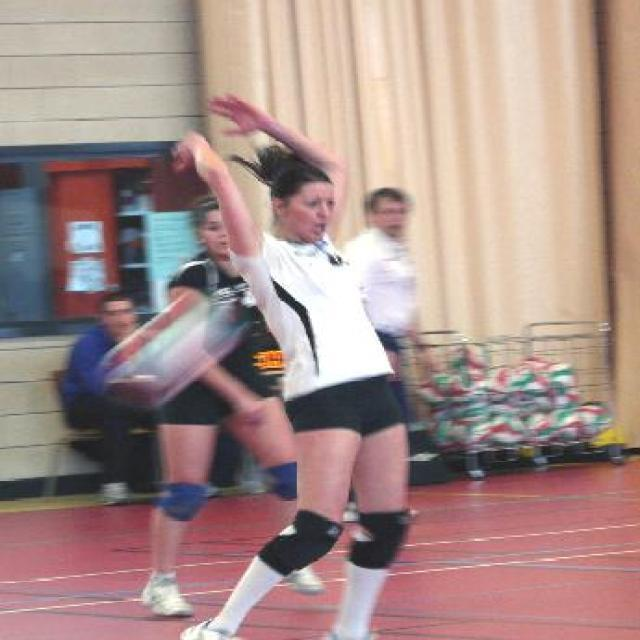volleyball: (98, 290, 246, 408)
